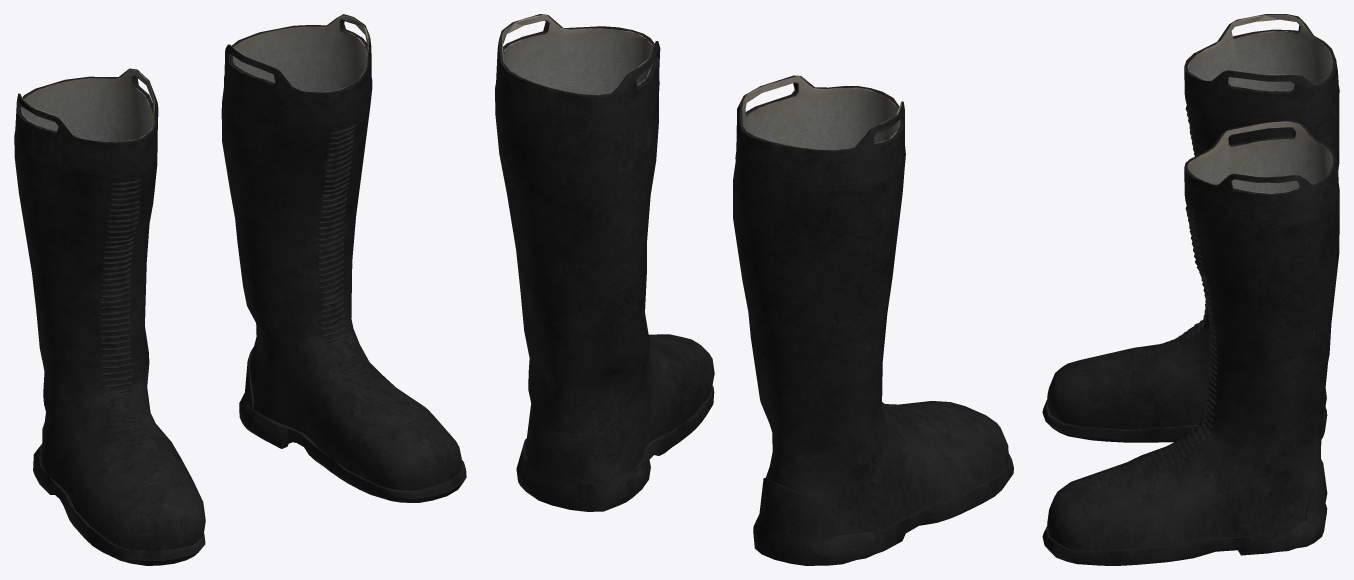
The model's file is Only_boots.fbx.
The picture shows the model from 3 angles, left to right: view 1: azimuth 30°, elevation 25°; view 2: azimuth 150°, elevation 25°; view 3: azimuth 270°, elevation 25°; orthographic projection. The views are drawn at different scales.
Parts seen in each view (by area): view 1: Only_boots; view 2: Only_boots; view 3: Only_boots.
Boxes of the visible parts, x1,y1,x2,y2 form: Only_boots: [14, 14, 466, 565]; Only_boots: [495, 14, 1013, 565]; Only_boots: [1042, 14, 1339, 565].
Size of the model in its own units: 0.3576 by 0.3744 by 0.2577.
